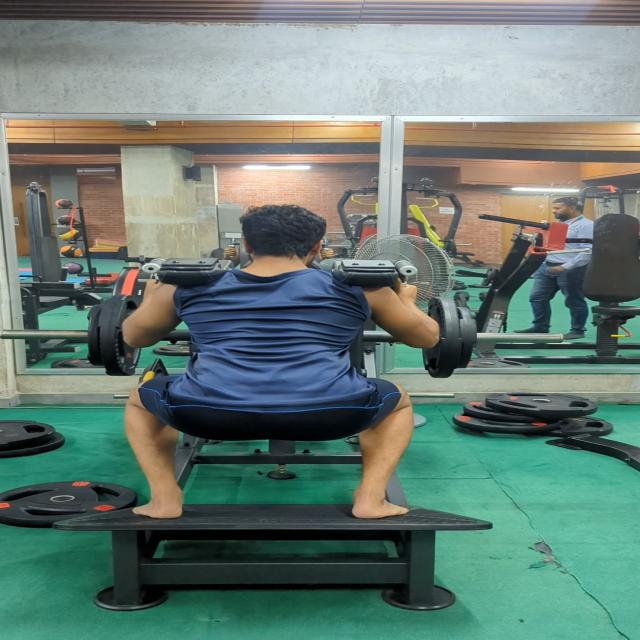Normal_SquatsWithBarbell: (112, 197, 444, 530)
